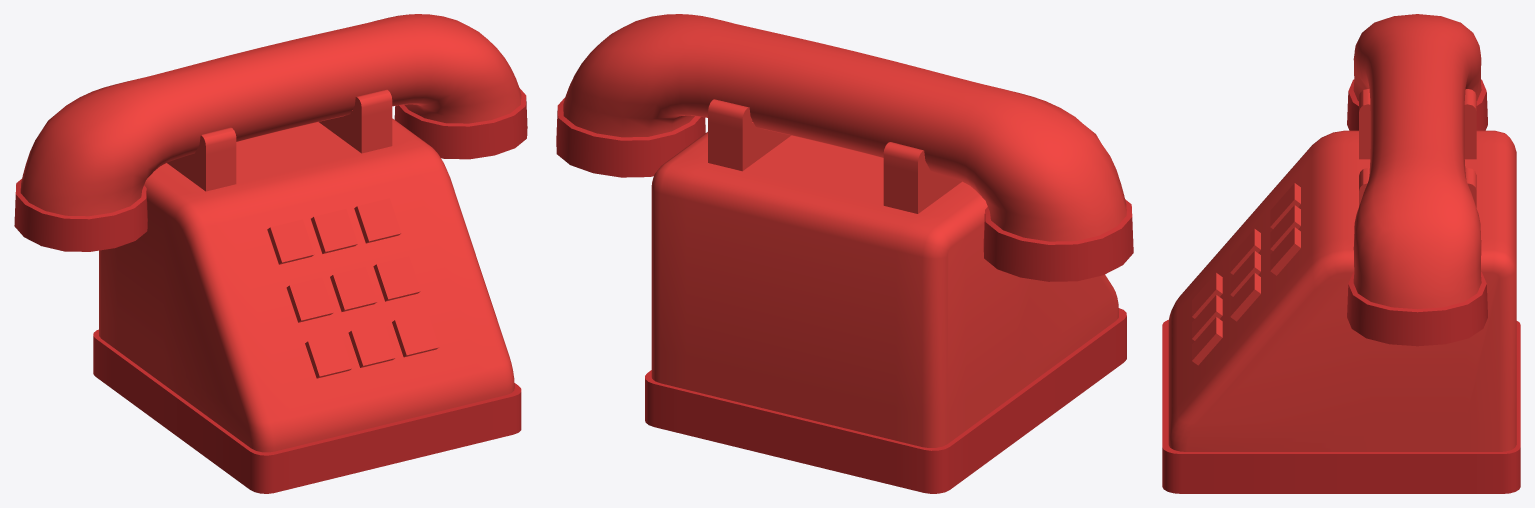
The model's file is telephone.glb.
The picture shows the model from 3 angles, left to right: view 1: azimuth 30°, elevation 25°; view 2: azimuth 150°, elevation 25°; view 3: azimuth 270°, elevation 25°; orthographic projection. The views are drawn at different scales.
Visible parts, largest first — view 1: Cube.919; view 2: Cube.919; view 3: Cube.919.
Part boxes in pixels (left/top/right/bottom): Cube.919: left=14, top=14, right=527, bottom=493; Cube.919: left=556, top=14, right=1133, bottom=493; Cube.919: left=1162, top=14, right=1520, bottom=493.
Bounding box in the file's own units: 2.57 × 1.61 × 1.56.
Materials: 1 (1 with a texture image).
